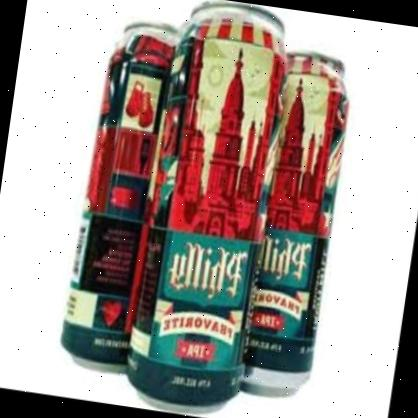can: (120, 1, 290, 413), (58, 12, 178, 372), (239, 50, 356, 404)
